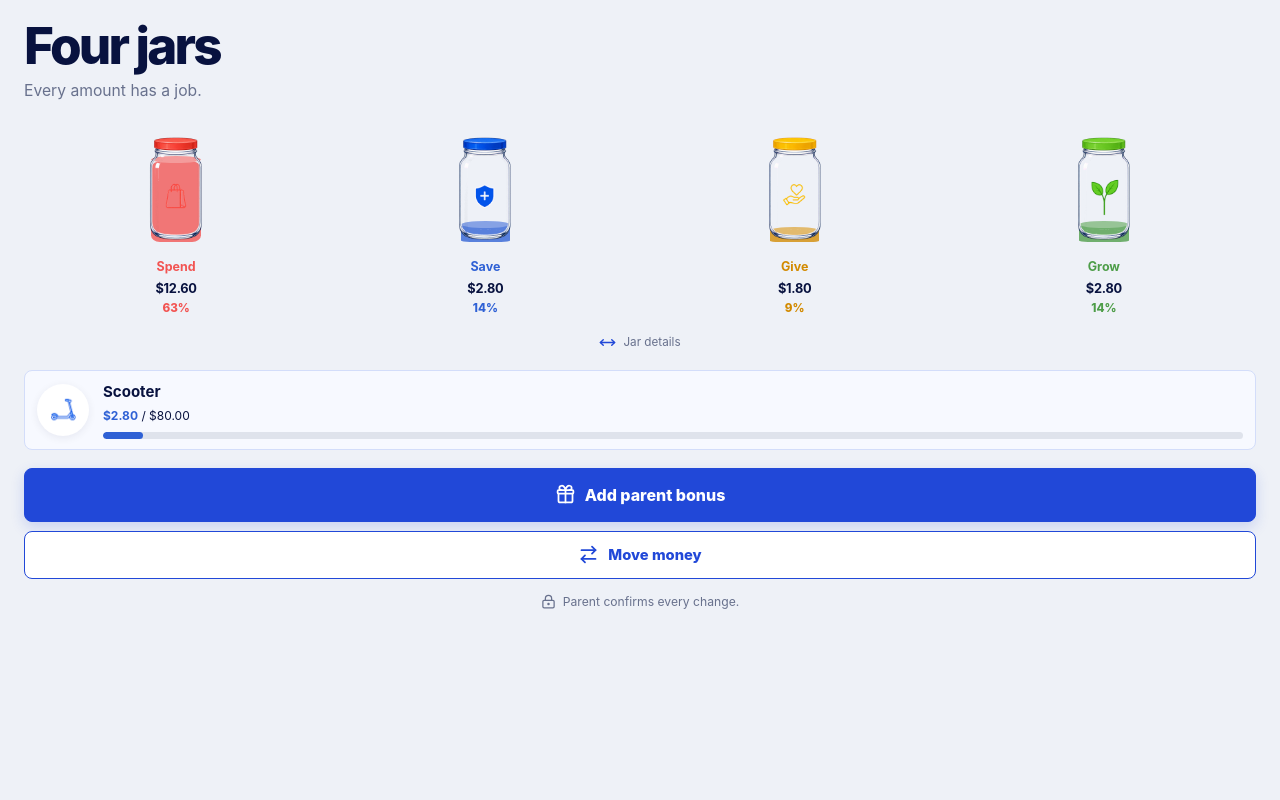
approved closed-week experience › limits jar-use reasons to the selected jar
Click the button named "Save jar".
click(485, 187)  # box [441,121,529,253]
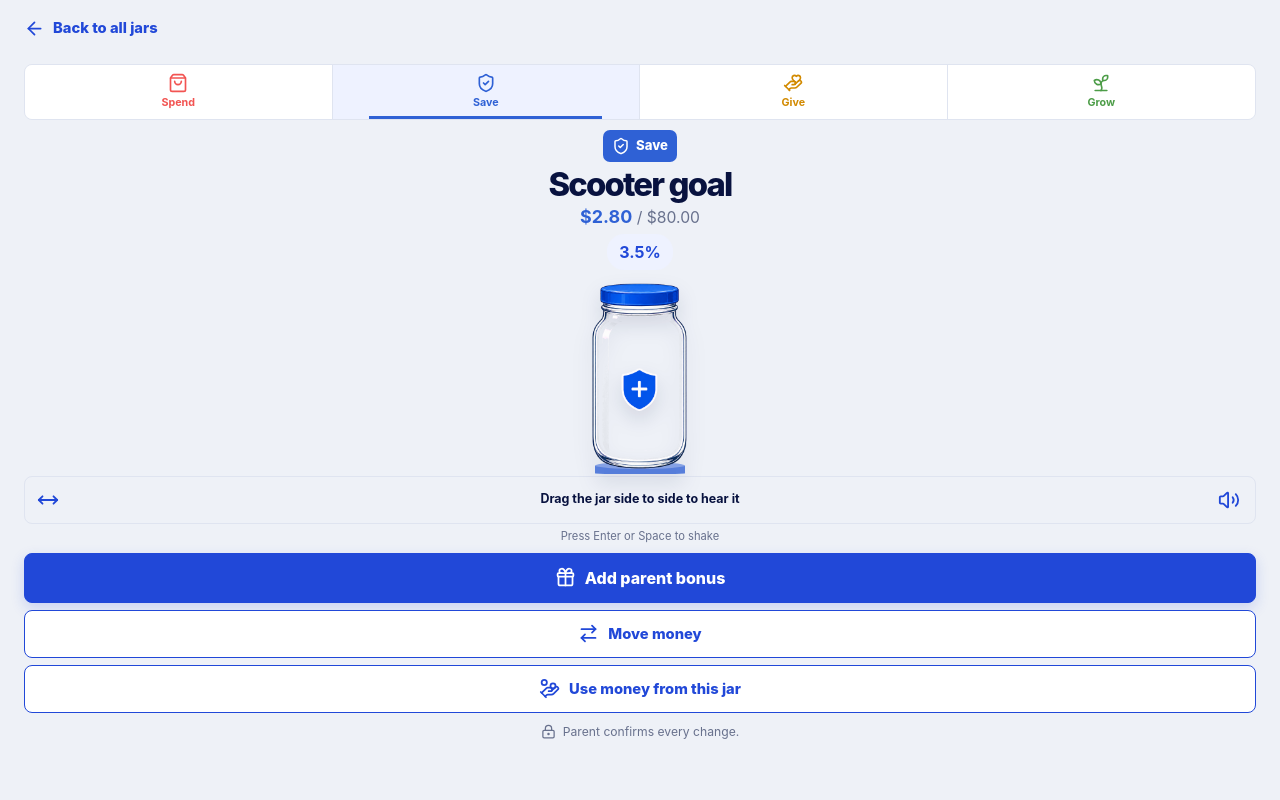
Click the button "Use money from this jar".
click(640, 689)  # box [24,665,1256,713]
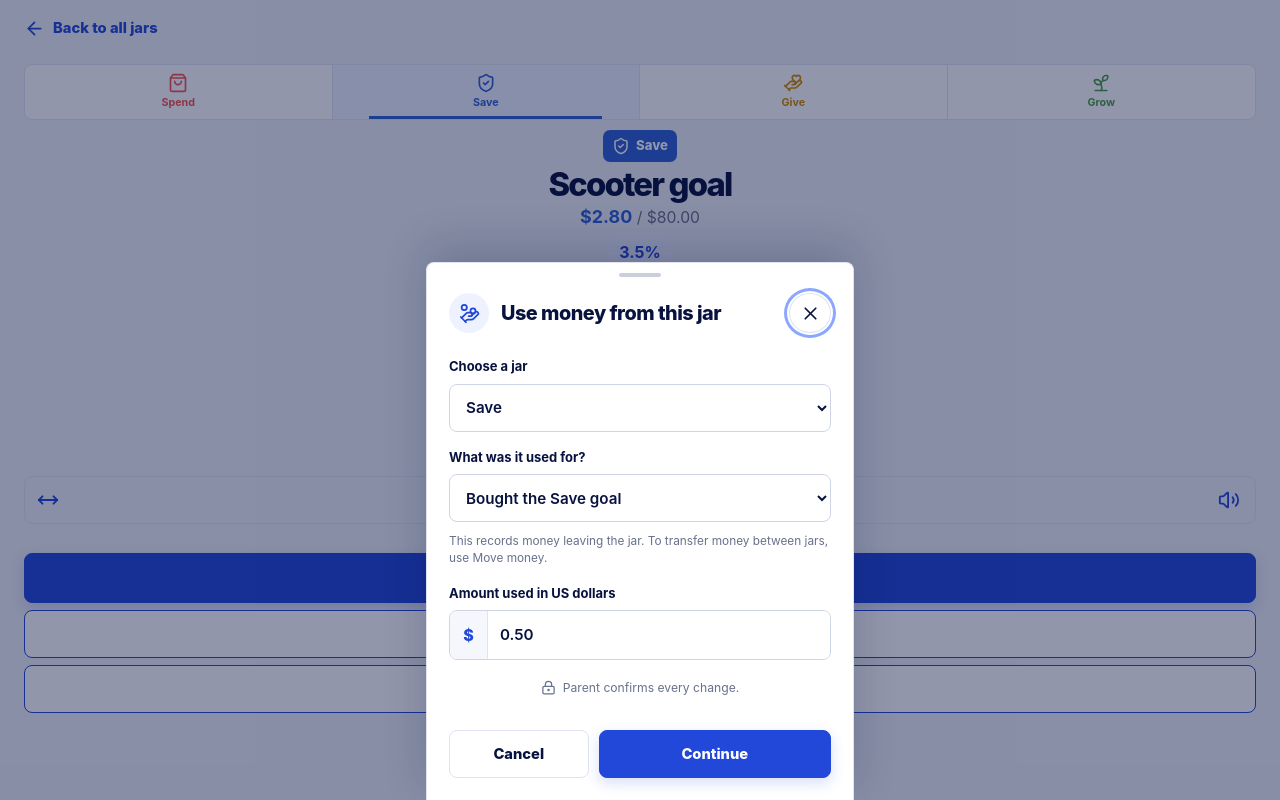
Check: the dropdown labelled "What was it used for?" shows "Bought the Save goal", box [449,474,831,522]
Select "Give" in the dropdown labelled "Choose a jar" at (640, 408), box [449,384,831,432]
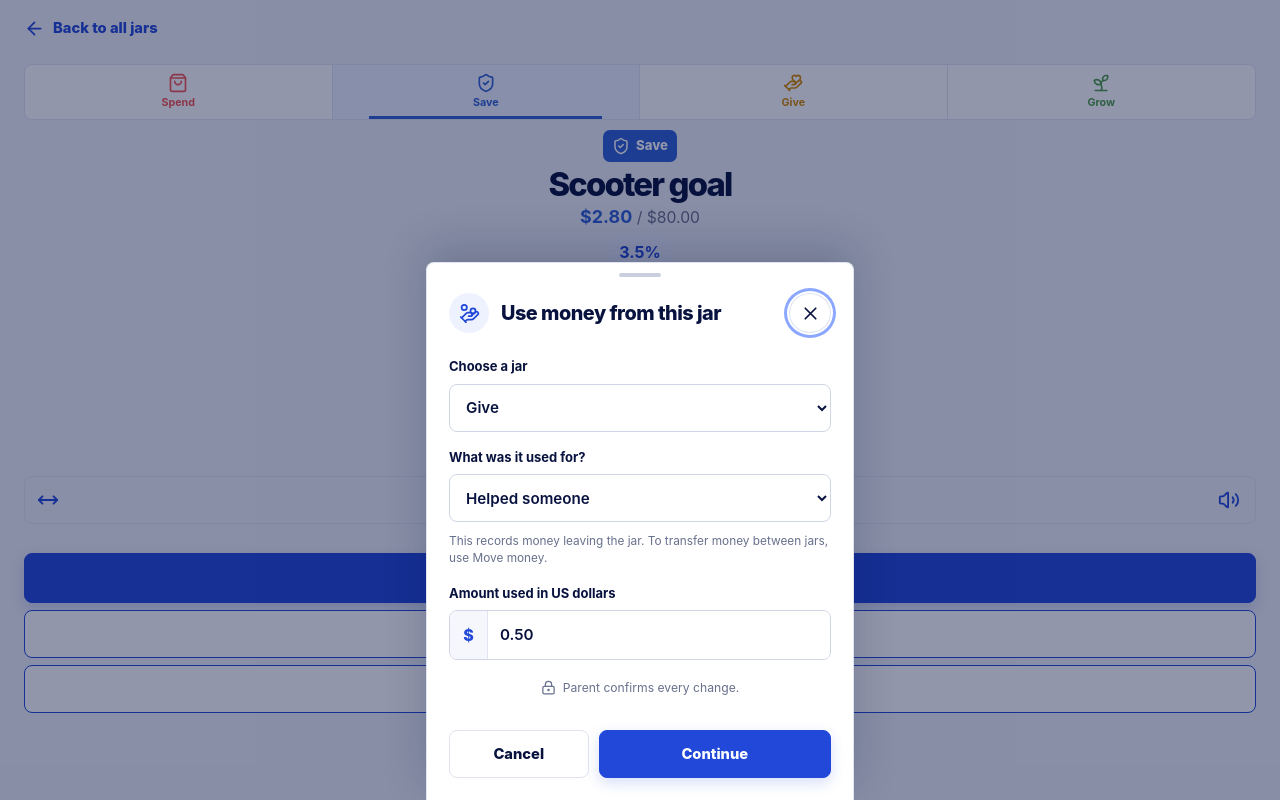
Check: the option "Bought the Save goal" is not shown
Check: the dropdown labelled "What was it used for?" shows "Helped someone", box [449,474,831,522]
